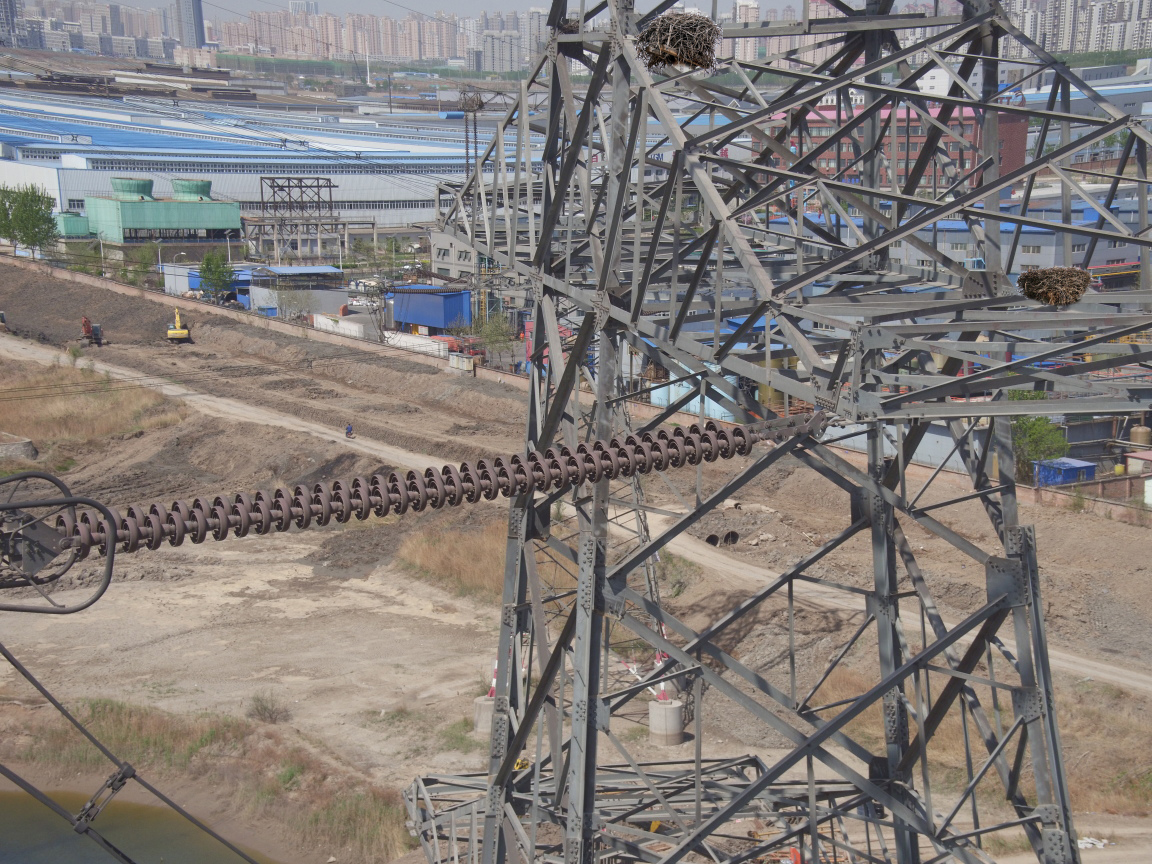nest: (635, 15, 723, 70), (1011, 264, 1097, 310)
